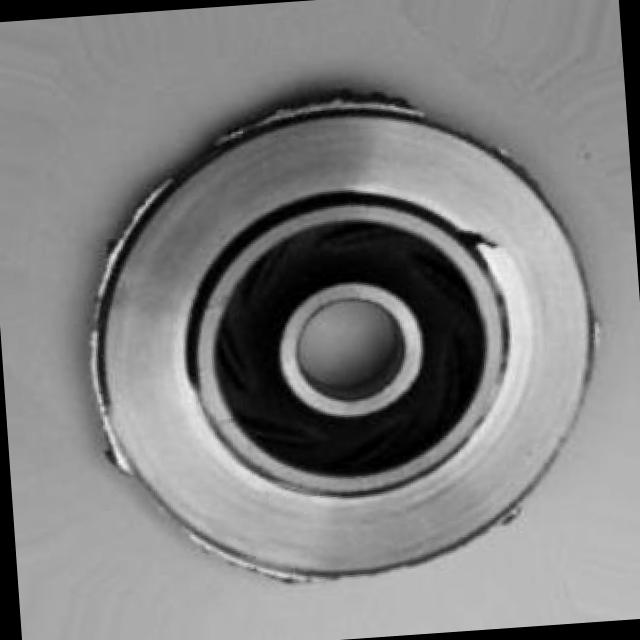Defect: (451, 212, 497, 263)
